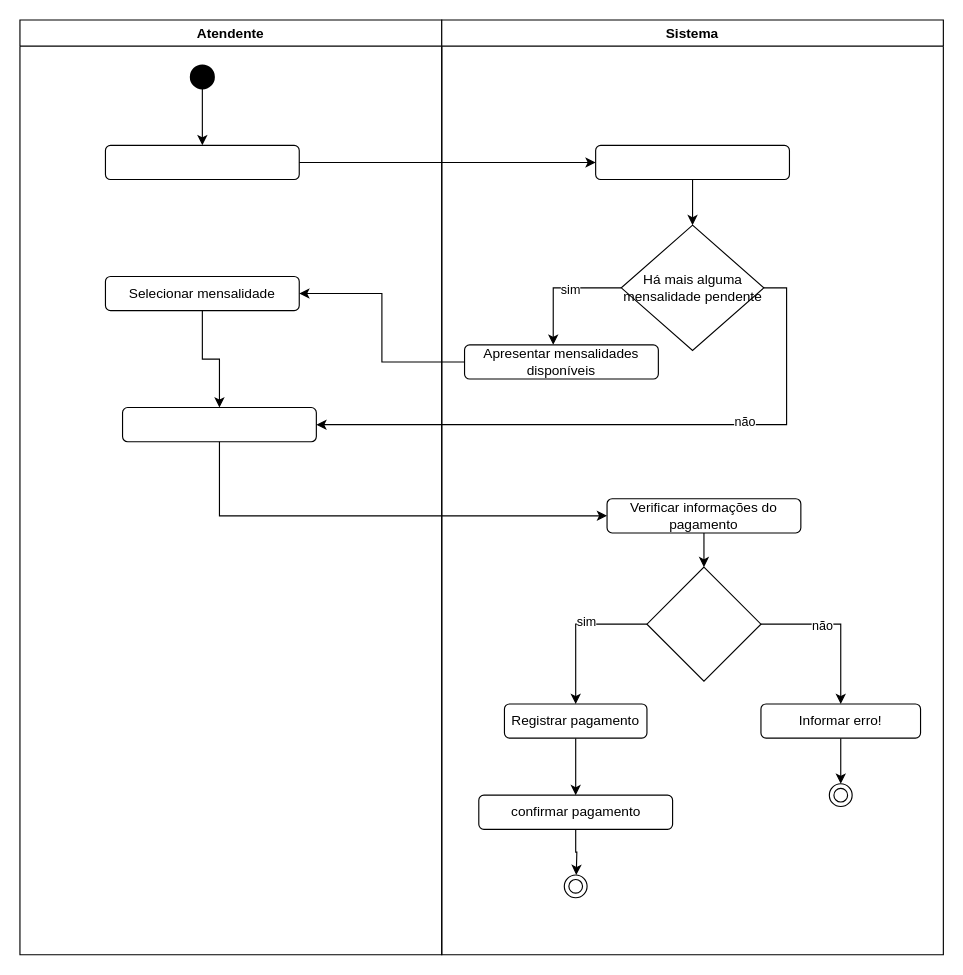
The diagram is 963 pixels wide and 975 high, and some of its shapes have lost their labels. Each missing label, with the centre of its shape:
"Apresentar dados do aluno e mensalidade" belongs at [692,162].
"Identificar aluno" belongs at [201,162].
"Informar dados do pagamento" belongs at [218,424].
"Informações validas?" belongs at [703,623].
